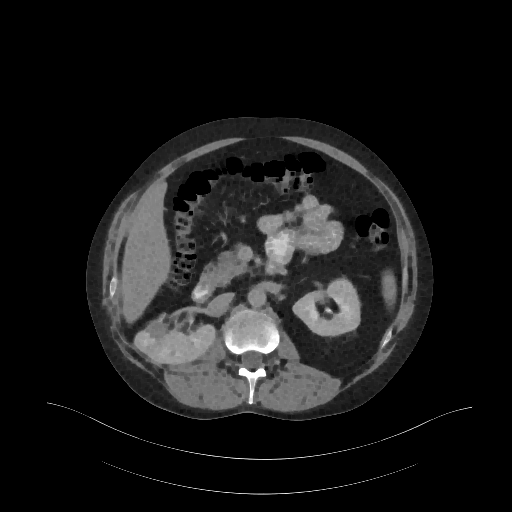Lesion: (353, 320, 361, 329)
